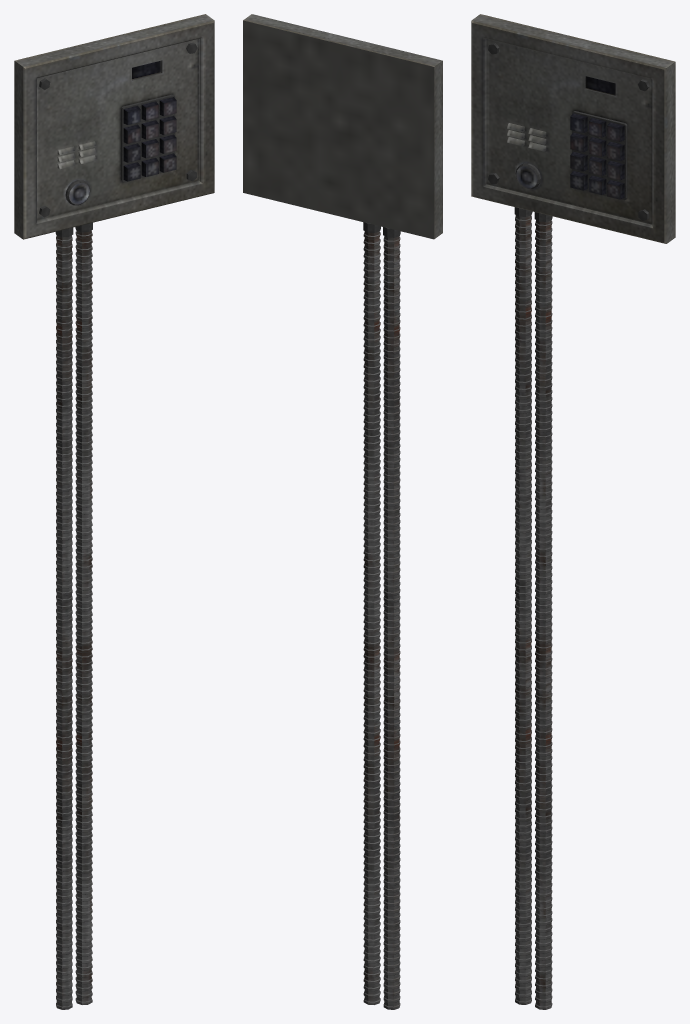
The picture shows the model from 3 angles, left to right: view 1: azimuth 30°, elevation 25°; view 2: azimuth 150°, elevation 25°; view 3: azimuth 330°, elevation 25°; orthographic projection. The views are drawn at different scales.
Visible parts, largest first — view 1: keypad_1; view 2: keypad_1; view 3: keypad_1.
Part boxes in pixels (x1,y1,x2,y2): keypad_1: [14, 14, 214, 1009]; keypad_1: [243, 14, 442, 1009]; keypad_1: [471, 14, 675, 1009].
Bounding box in the file's own units: 0.29 × 1.38 × 0.035.
Materials: 3 (3 with a texture image).
